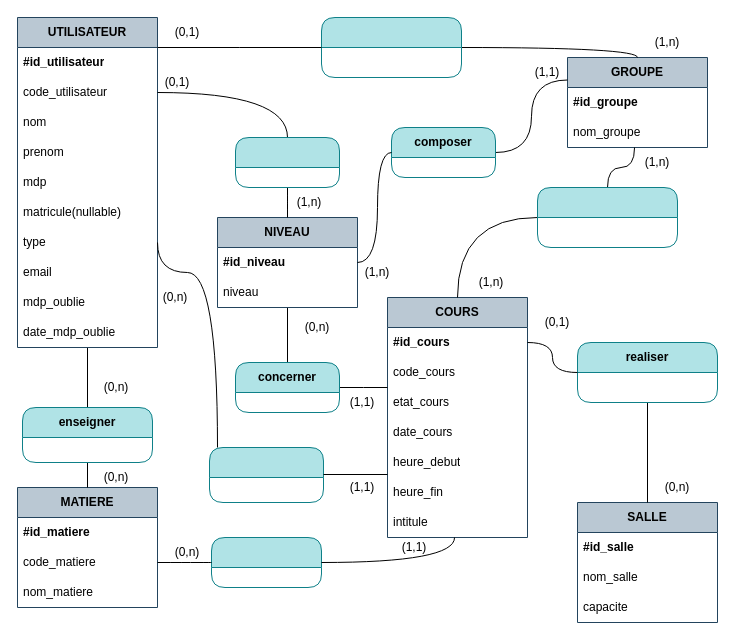
The diagram is 735 pixels wide and 640 high, and some of its shapes have lost their labels. Here are the shapes that lost their labels. From the top down, the centre of each, then its label:
At [391,47]: "inclure".
At [287,162]: "appartenir".
At [607,217]: "assister".
At [266,474]: "dispenser".
At [266,562]: "proposer".
